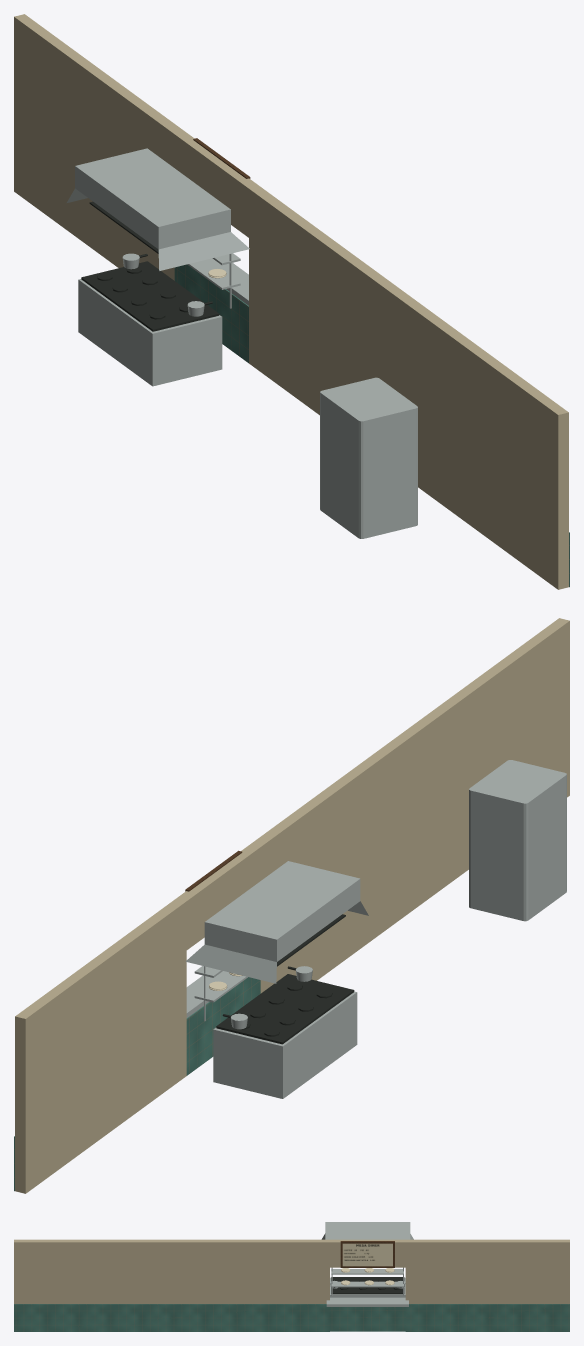
Rendered from SM_Mesa_Kitchen_LOD1.fbx.
3 views of the same model, one above another, from view 1: azimuth 30°, elevation 25°; view 2: azimuth 150°, elevation 25°; view 3: azimuth 270°, elevation 25° (orthographic). The views are drawn at different scales.
Parts seen in each view (by area): view 1: SM_Mesa_Kitchen_LOD1; view 2: SM_Mesa_Kitchen_LOD1; view 3: SM_Mesa_Kitchen_LOD1.
Boxes of the visible parts, left/top/right/bottom form: SM_Mesa_Kitchen_LOD1: left=14, top=14, right=569, bottom=589; SM_Mesa_Kitchen_LOD1: left=14, top=618, right=569, bottom=1193; SM_Mesa_Kitchen_LOD1: left=14, top=1222, right=569, bottom=1331.
Bounding box in the file's own units: 2.37 × 17.6 × 3.14.
